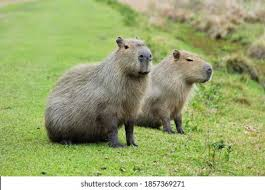capivara: (46, 36, 153, 147), (133, 49, 212, 134)
